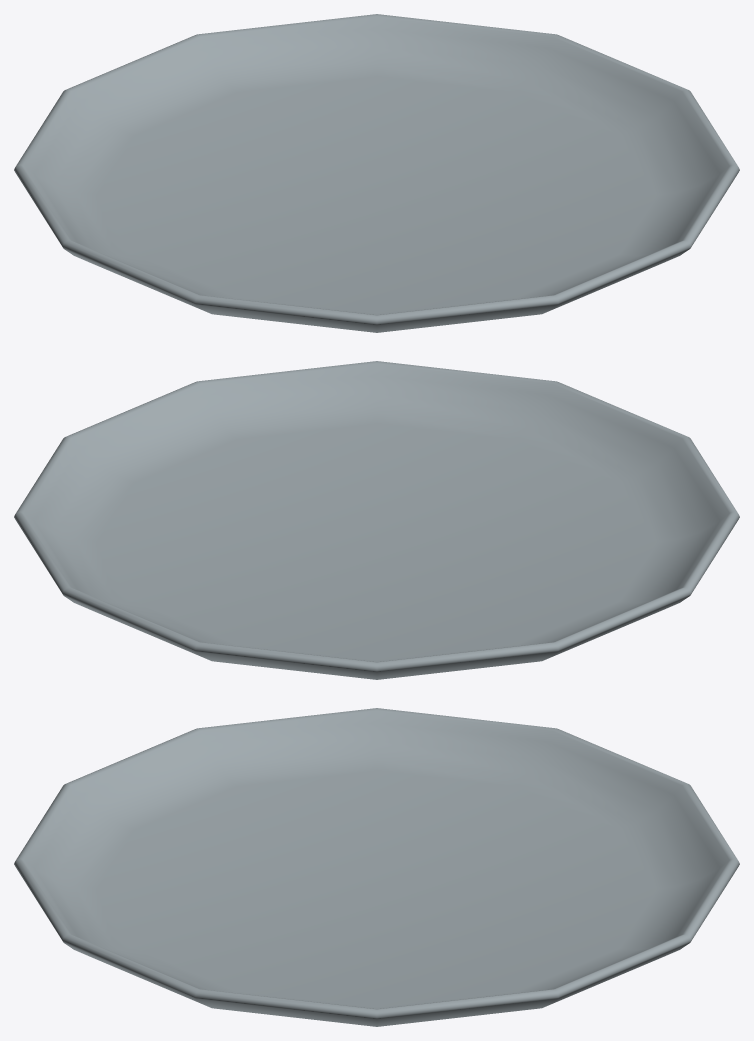
Rendered from Large Plate.fbx.
3 renders of one model, top to bottom at view 1: azimuth 30°, elevation 25°; view 2: azimuth 150°, elevation 25°; view 3: azimuth 270°, elevation 25°, orthographic.
Parts seen in each view (by area): view 1: Large Plate; view 2: Large Plate; view 3: Large Plate.
Part boxes in pixels (left/top/right/bottom): Large Plate: left=14, top=14, right=739, bottom=332; Large Plate: left=14, top=361, right=739, bottom=679; Large Plate: left=14, top=708, right=739, bottom=1026.
Size of the model in its own units: 42.24 by 2.6 by 42.24.
